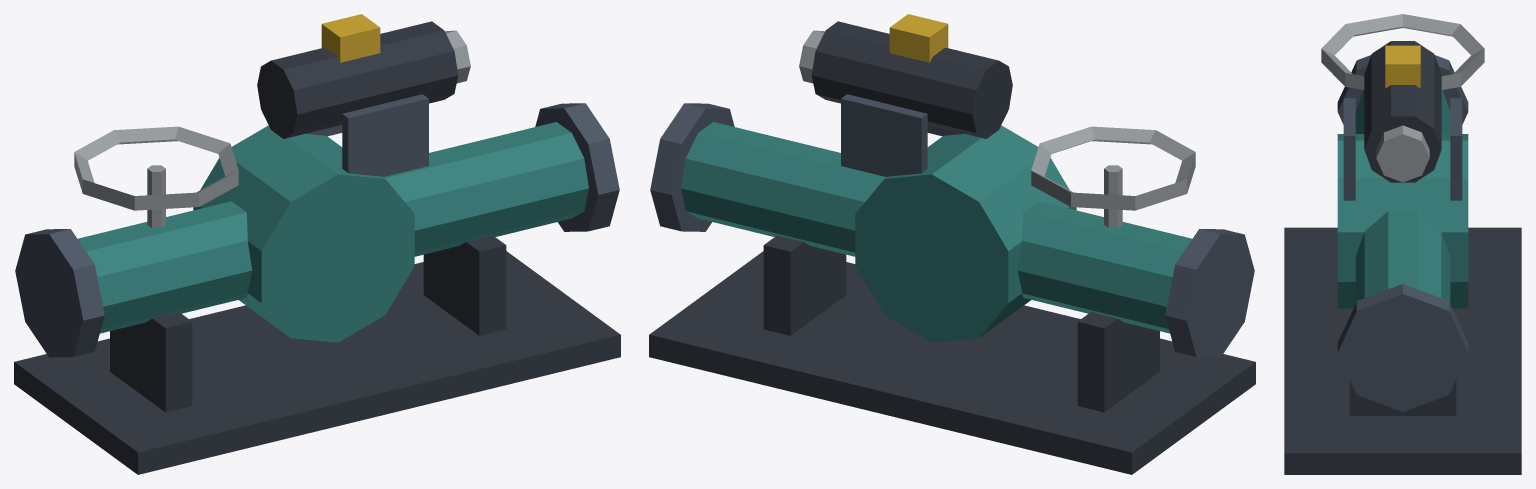
Rendered from pump.obj.
The picture shows the model from 3 angles, left to right: view 1: azimuth 30°, elevation 25°; view 2: azimuth 150°, elevation 25°; view 3: azimuth 270°, elevation 25°; orthographic projection. The views are drawn at different scales.
Parts seen in each view (by area): view 1: body, part; view 2: body, part; view 3: body, part.
Part boxes in pixels (x1,y1,x2,y2): body: (14, 94, 620, 474); part: (257, 14, 470, 138); body: (649, 94, 1255, 474); part: (799, 14, 1012, 138); body: (1284, 14, 1521, 474); part: (1364, 41, 1441, 182).
Size of the model in its own units: 2 by 1.2 by 0.8.
